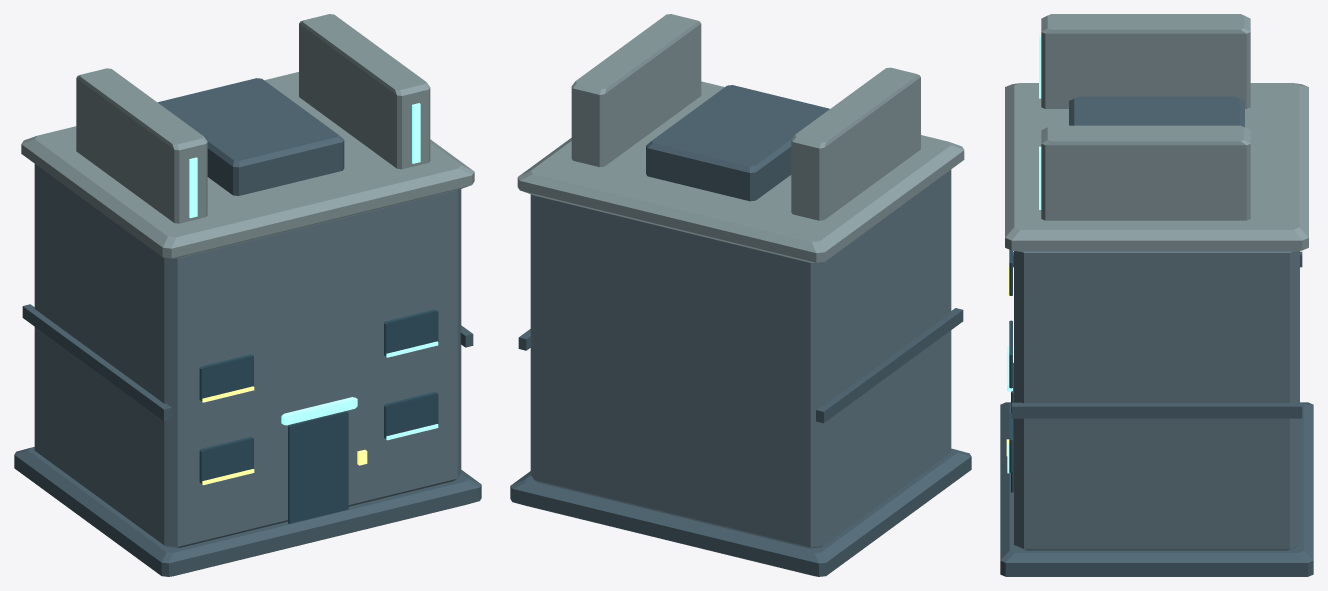
Rendered from SM_ELY_BLD_002_Archive.glb.
3 renders of one model, left to right at view 1: azimuth 30°, elevation 25°; view 2: azimuth 150°, elevation 25°; view 3: azimuth 270°, elevation 25°, orthographic. The views are drawn at different scales.
Parts seen in each view (by area): view 1: SM_ELY_BLD_002_Archive; view 2: SM_ELY_BLD_002_Archive; view 3: SM_ELY_BLD_002_Archive.
Boxes of the visible parts, bbox=[...] form: SM_ELY_BLD_002_Archive: bbox=[14, 14, 481, 576]; SM_ELY_BLD_002_Archive: bbox=[510, 14, 971, 576]; SM_ELY_BLD_002_Archive: bbox=[1000, 14, 1313, 576].
Size of the model in its own units: 3.45 by 4.25 by 2.85.
